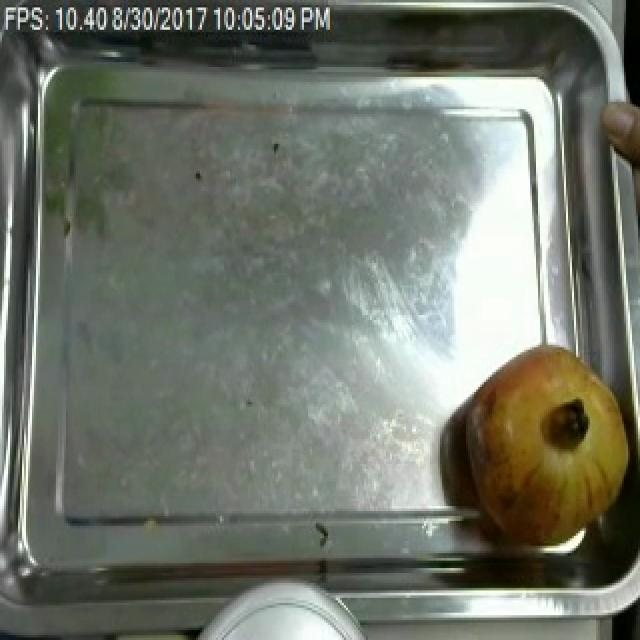fruit: (454, 328, 640, 563), (596, 86, 640, 178)
